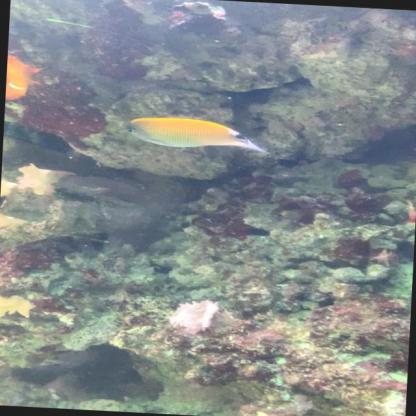fish: (123, 116, 279, 155), (5, 56, 40, 103)
